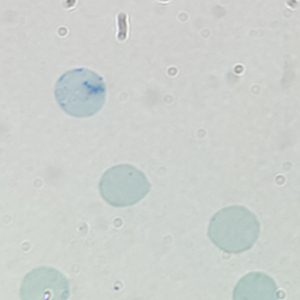aggregate reticulocyte: (53, 67, 109, 120)
punctate reticulocyte: (205, 204, 263, 255), (97, 163, 154, 209)
